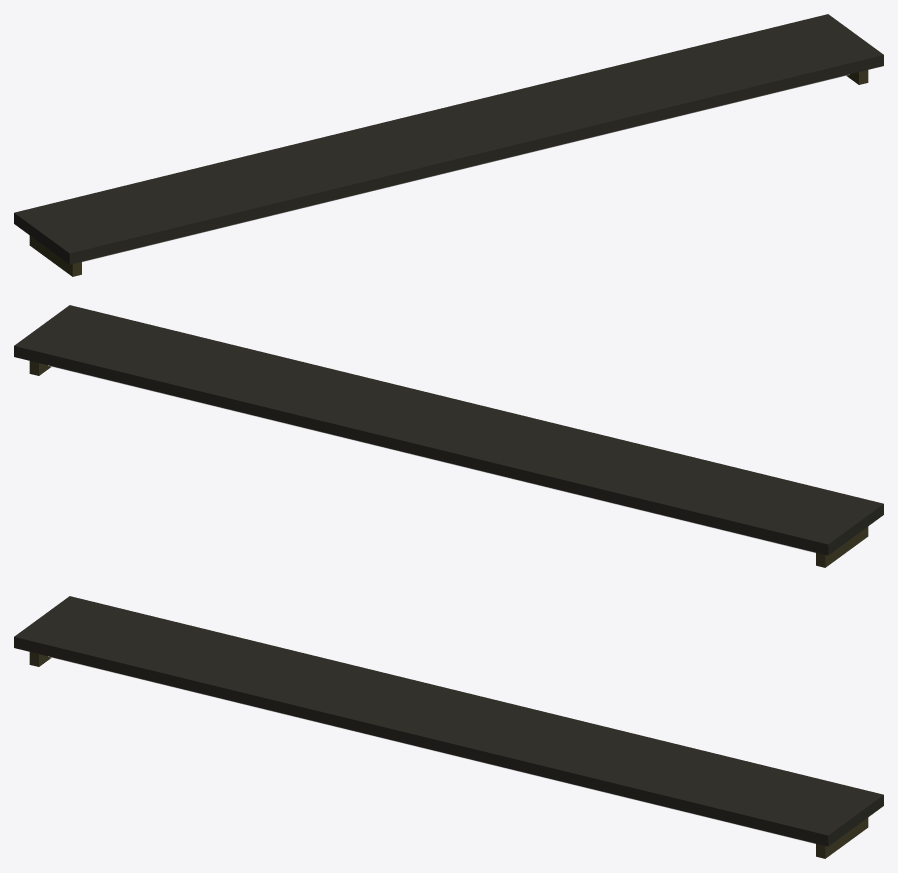
File: light_tubes.fbx
3 views of the same model, one above another, from view 1: azimuth 30°, elevation 25°; view 2: azimuth 150°, elevation 25°; view 3: azimuth 330°, elevation 25° (orthographic).
Parts seen in each view (by area): view 1: Light_Tubes; view 2: Light_Tubes; view 3: Light_Tubes.
Boxes of the visible parts, box(x1,y1,x2,y2) form: Light_Tubes: box(14, 14, 883, 276); Light_Tubes: box(14, 305, 883, 567); Light_Tubes: box(14, 596, 883, 858).
Size of the model in its own units: 3.14 by 0.1121 by 0.3727.
